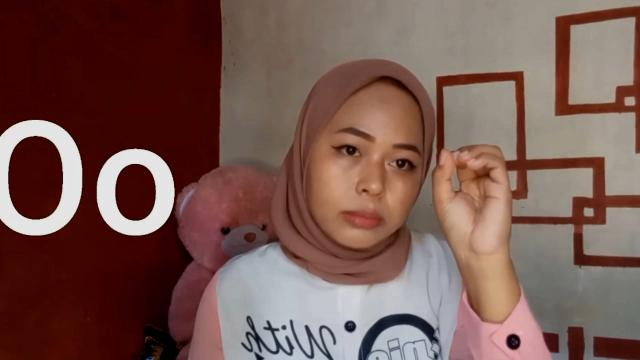O: (428, 140, 522, 256)
